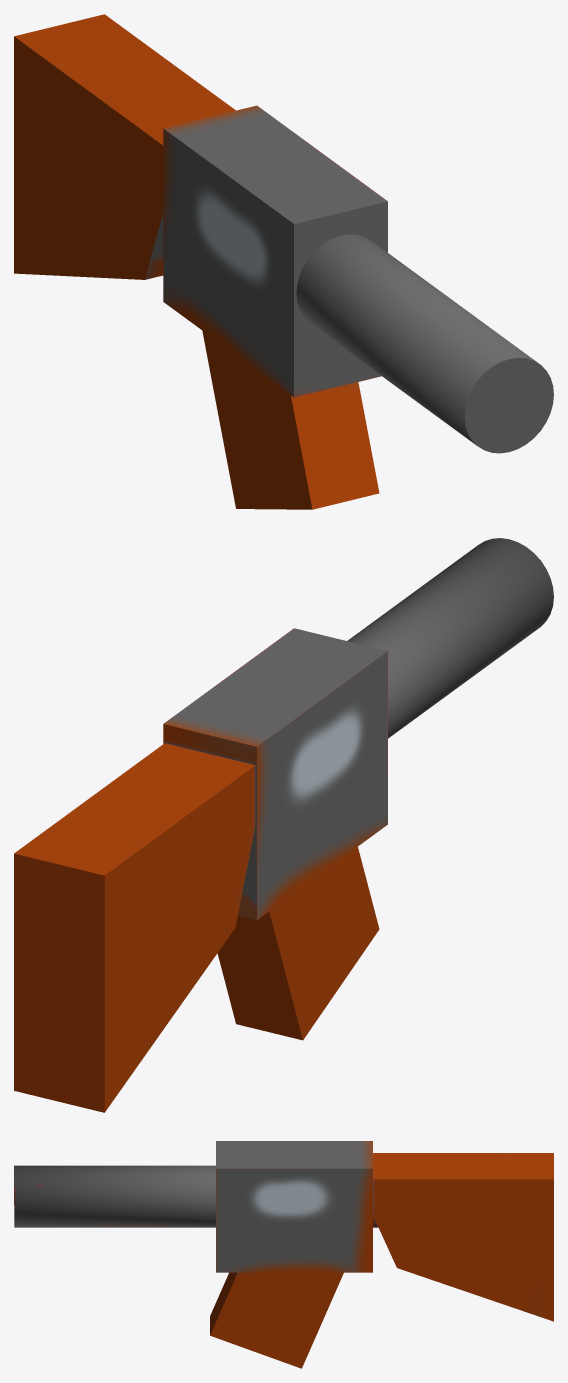
Rendered from weapon3.obj.
The picture shows the model from 3 angles, top to bottom: view 1: azimuth 30°, elevation 25°; view 2: azimuth 150°, elevation 25°; view 3: azimuth 270°, elevation 25°; orthographic projection. The views are drawn at different scales.
Parts seen in each view (by area): view 1: Cube; view 2: Cube; view 3: Cube.
Boxes of the visible parts, bbox=[...] form: Cube: bbox=[14, 14, 553, 509]; Cube: bbox=[14, 538, 553, 1112]; Cube: bbox=[14, 1141, 553, 1368].
Bounding box in the file's own units: 0.1958 × 0.6788 × 1.63.
